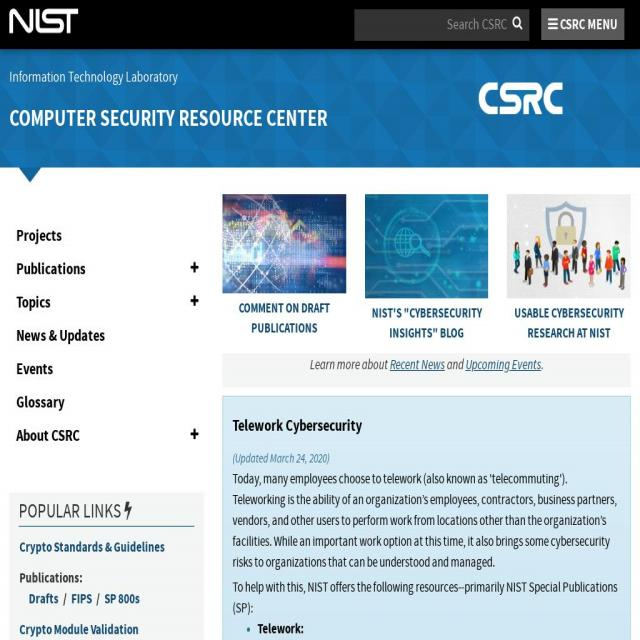navigation-blocks: (221, 182, 640, 348)
navigation-links: (7, 208, 215, 468)
options: (542, 3, 622, 45)
search: (345, 5, 531, 47)
